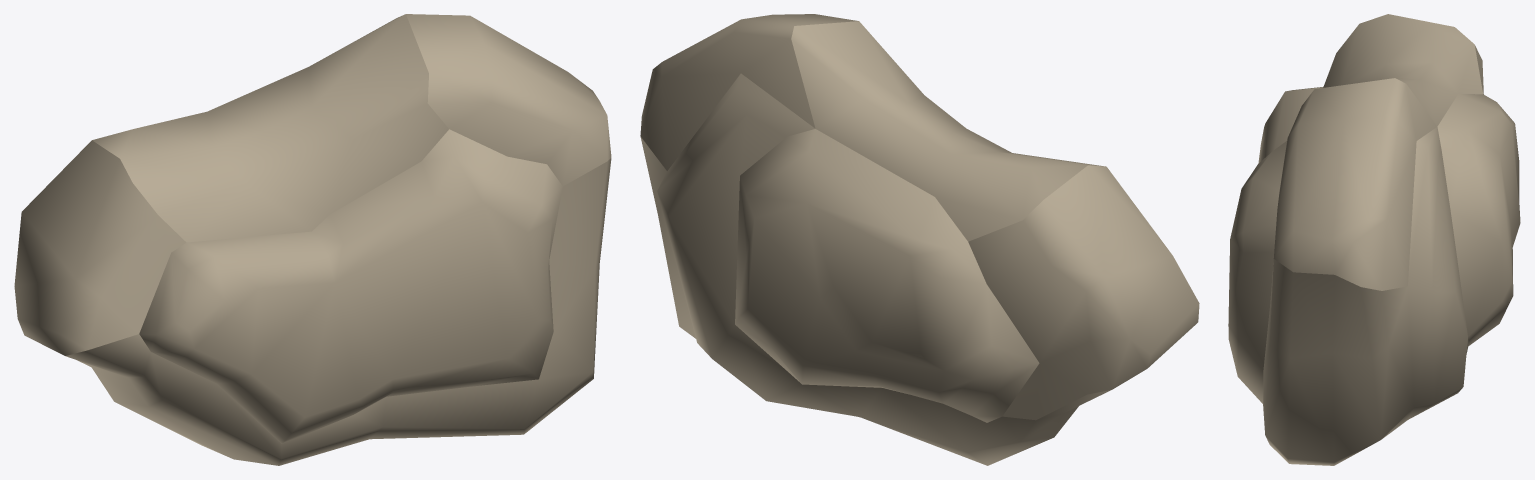
The model's file is Rock_009_b.FBX.
3 renders of one model, left to right at view 1: azimuth 30°, elevation 25°; view 2: azimuth 150°, elevation 25°; view 3: azimuth 270°, elevation 25°, orthographic. The views are drawn at different scales.
Visible parts, largest first — view 1: Rock_009_b_LOD0; view 2: Rock_009_b_LOD0; view 3: Rock_009_b_LOD0.
Boxes of the visible parts, x1,y1,x2,y2 form: Rock_009_b_LOD0: (14,14,611,465); Rock_009_b_LOD0: (640,14,1199,465); Rock_009_b_LOD0: (1228,14,1520,465).
Size of the model in its own units: 187 by 94.46 by 129.
